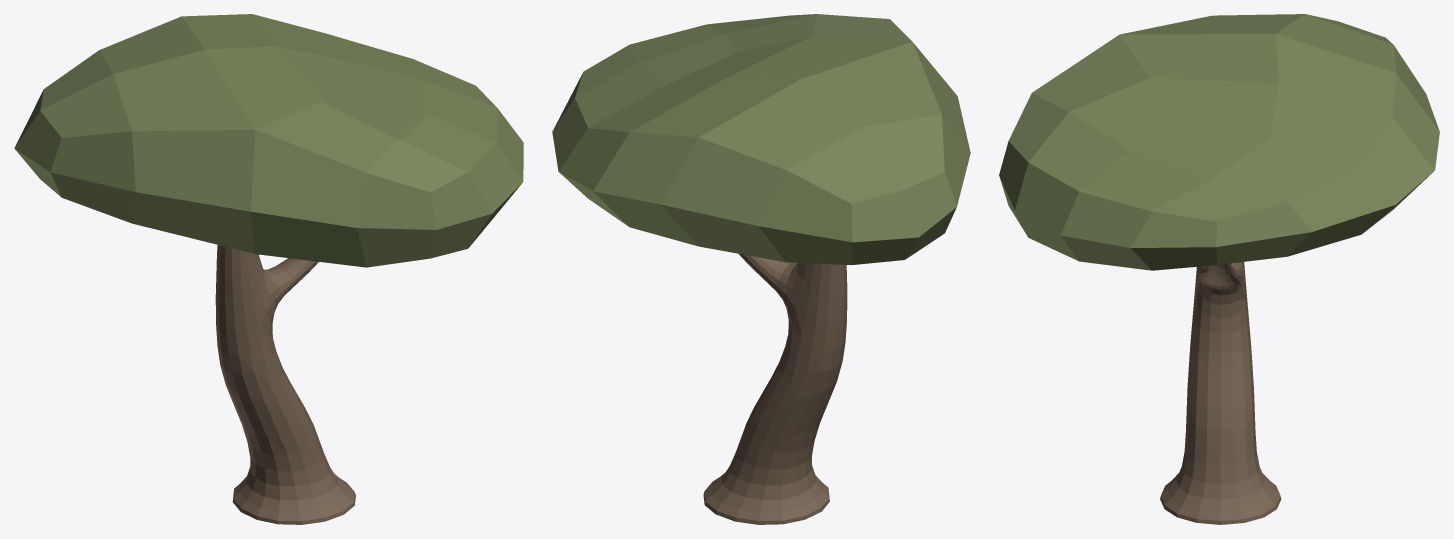
Rendered from tree-9.fbx.
3 views of the same model, side by side, from view 1: azimuth 30°, elevation 25°; view 2: azimuth 150°, elevation 25°; view 3: azimuth 270°, elevation 25° (orthographic). The views are drawn at different scales.
Parts seen in each view (by area): view 1: Cube.011, Cube.038; view 2: Cube.011, Cube.038; view 3: Cube.011, Cube.038.
Part boxes in pixels (bbox=[...]): Cube.011: bbox=[14, 14, 523, 267]; Cube.038: bbox=[215, 245, 355, 524]; Cube.011: bbox=[552, 14, 970, 265]; Cube.038: bbox=[703, 253, 847, 524]; Cube.011: bbox=[999, 14, 1439, 270]; Cube.038: bbox=[1160, 262, 1281, 524].
Size of the model in its own units: 1461 by 1545 by 1405.
